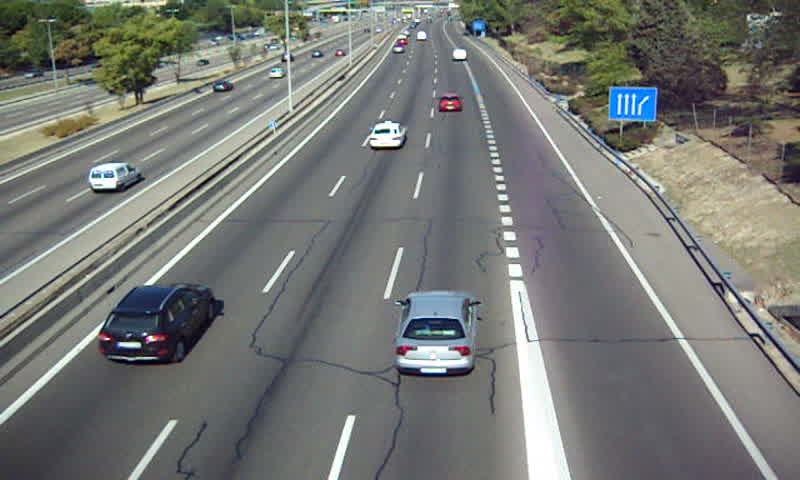car: (97, 283, 212, 364), (395, 291, 476, 374), (368, 120, 407, 151), (438, 93, 461, 112)
